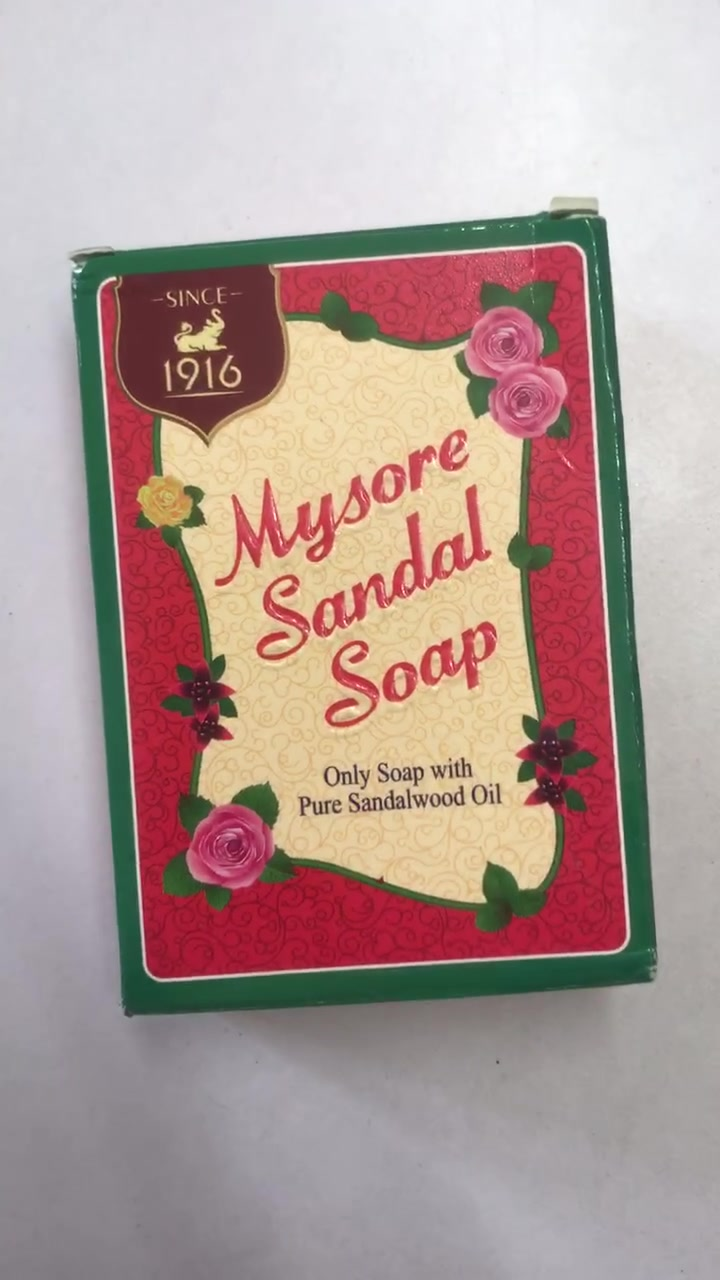mysore sandal soap: (81, 243, 648, 1013)
